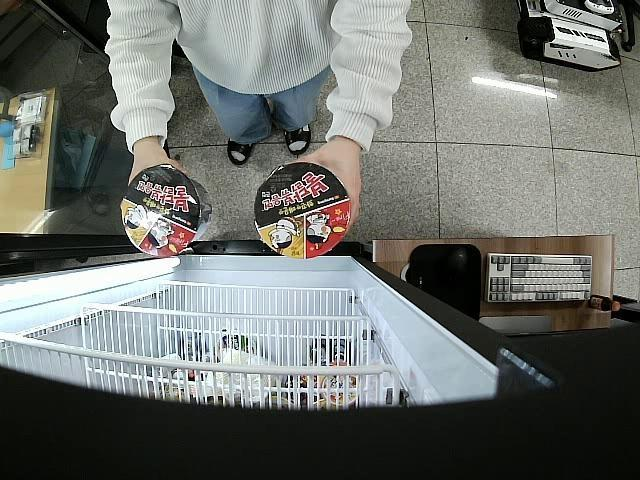07_buldak_L: (252, 163, 352, 258), (120, 164, 212, 258)
